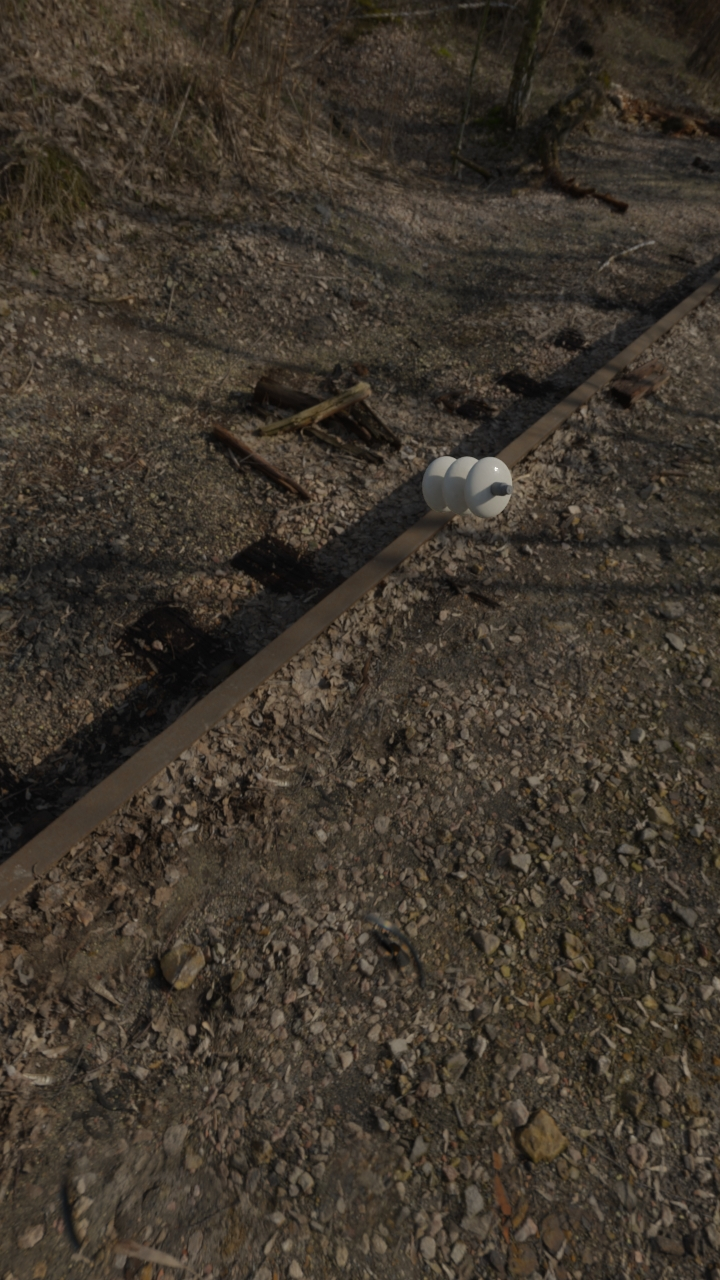ceramicinsulators: (422, 457, 514, 518)
